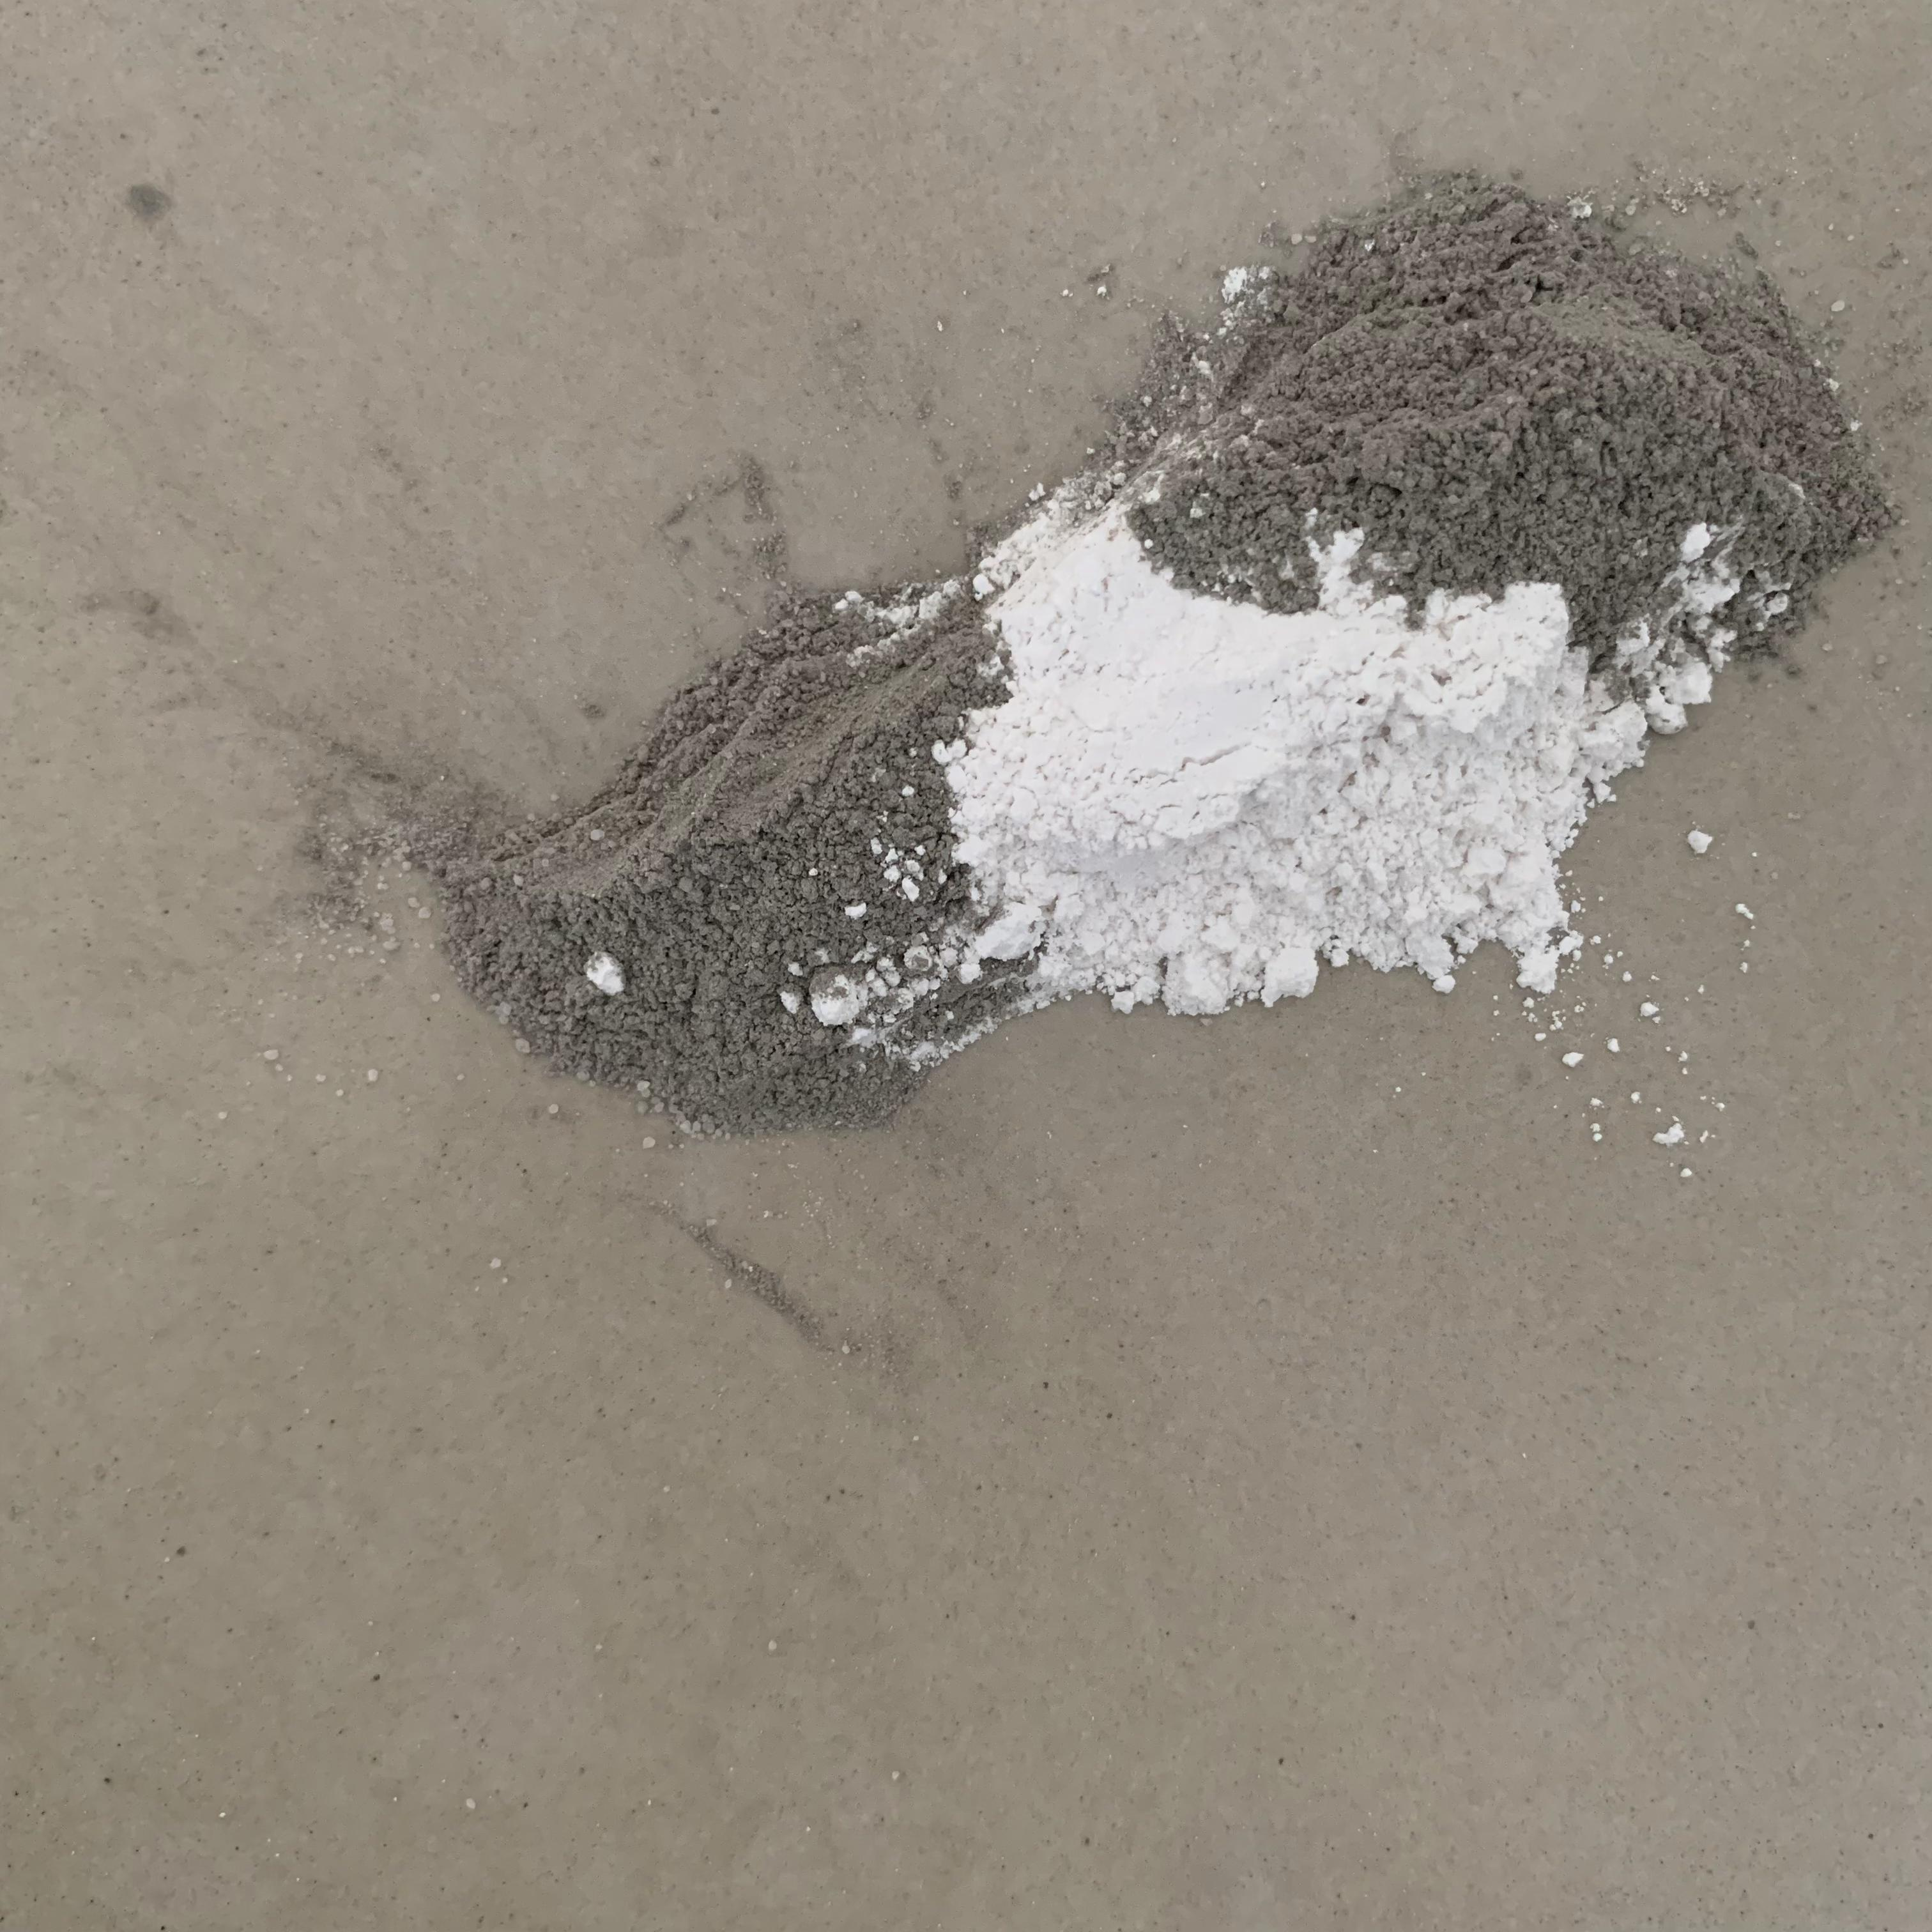ash pile: (274, 124, 1927, 1194)
